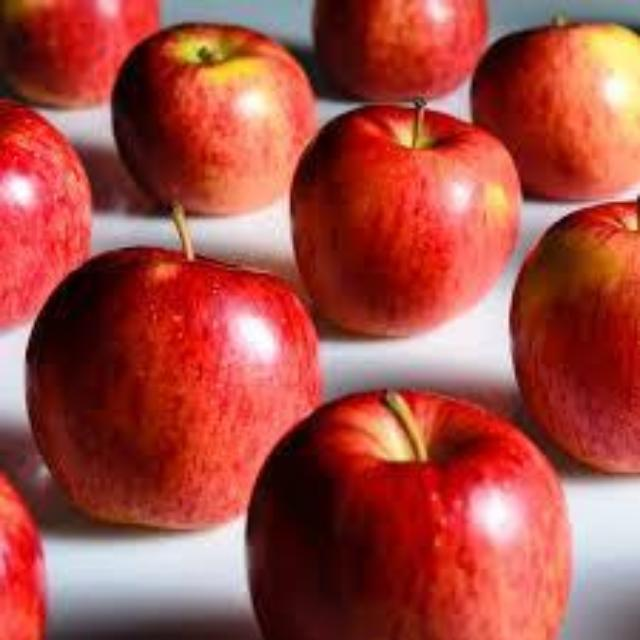apple: (26, 208, 319, 526), (247, 390, 569, 637), (290, 100, 518, 336), (111, 23, 316, 213), (509, 202, 637, 472), (472, 17, 637, 199), (0, 100, 88, 327), (313, 0, 486, 100), (0, 472, 43, 637)
